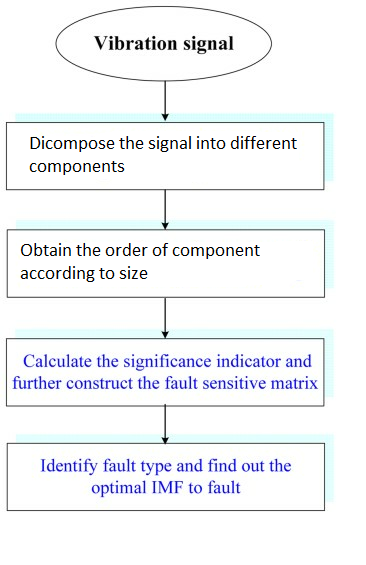arrow: (157, 403, 173, 445), (156, 186, 169, 231), (157, 77, 169, 119), (159, 299, 171, 339)
process: (2, 225, 329, 302), (2, 119, 328, 195), (1, 335, 325, 408), (3, 439, 327, 512)
terminator: (52, 3, 278, 85)
text: (8, 348, 317, 389), (25, 132, 301, 175), (34, 455, 292, 495), (18, 241, 263, 283), (91, 30, 240, 55)
